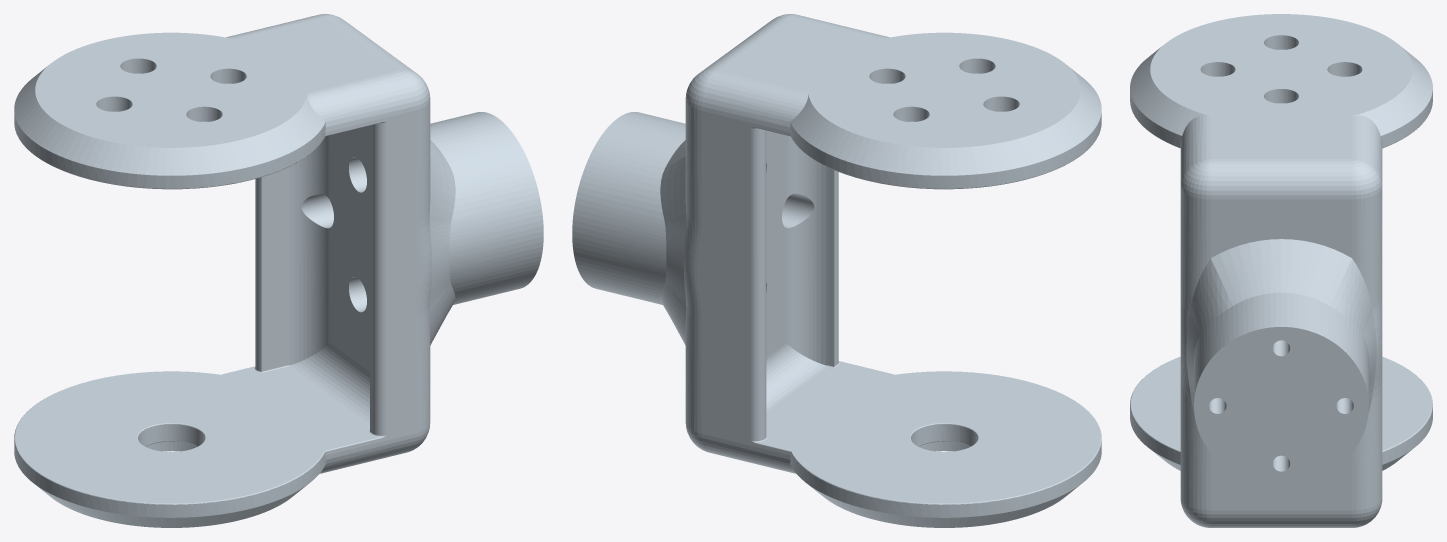
Rendered from FLO-ARM-01 UPPER ARM MOUNT - FLO-ARM-LEFT-01 UPPER ARM MOUNT.dae.
3 renders of one model, left to right at view 1: azimuth 30°, elevation 25°; view 2: azimuth 150°, elevation 25°; view 3: azimuth 270°, elevation 25°, orthographic. The views are drawn at different scales.
Parts seen in each view (by area): view 1: 5c7ffbf02f595814690487da; view 2: 5c7ffbf02f595814690487da; view 3: 5c7ffbf02f595814690487da.
Part boxes in pixels (x1,y1,x2,y2): 5c7ffbf02f595814690487da: [14, 14, 543, 527]; 5c7ffbf02f595814690487da: [572, 14, 1101, 527]; 5c7ffbf02f595814690487da: [1130, 14, 1432, 527].
Bounding box in the file's own units: 0.0648 × 0.0381 × 0.0508.
